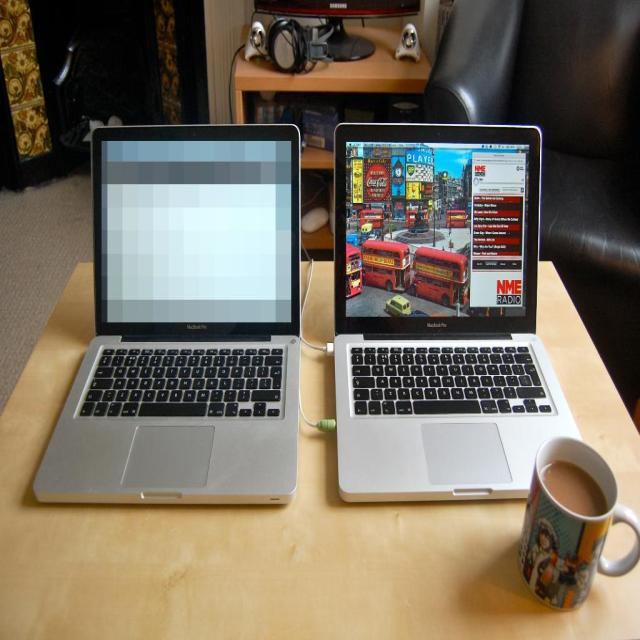glass: (524, 440, 635, 609)
laptop: (34, 126, 305, 508), (338, 126, 548, 502)
